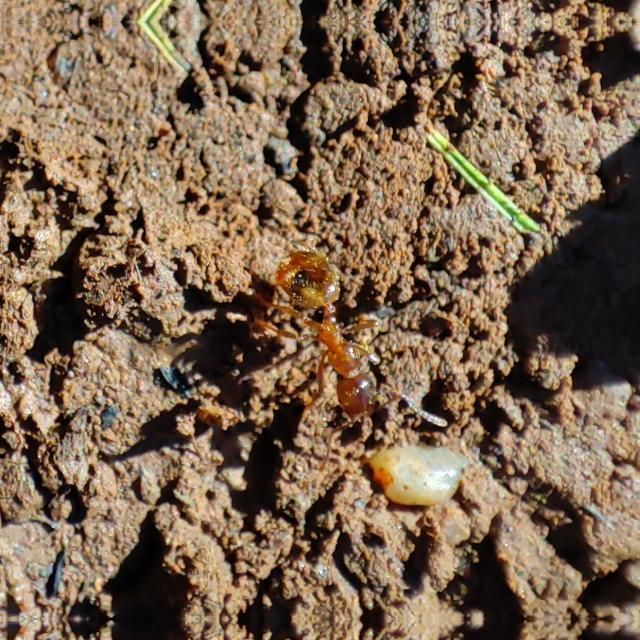Apheanogaster: (255, 238, 403, 432)
